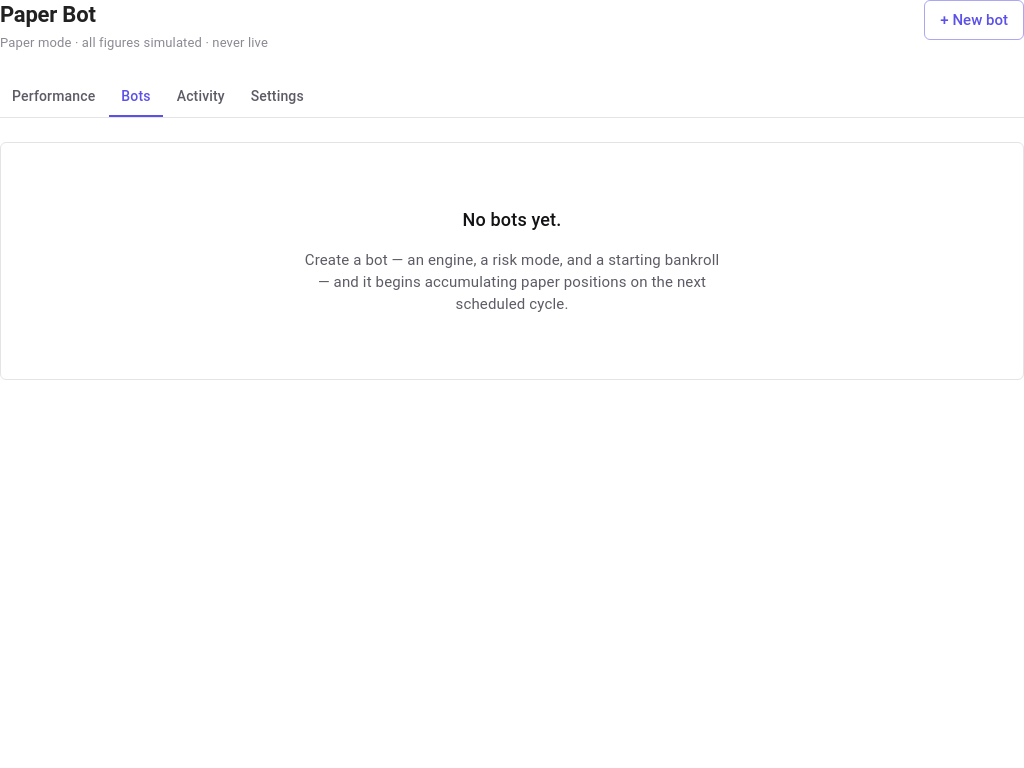
Test: Paper Bot create form › blocks submit and shows a name error when the name is empty
Click the button "+ New bot" at (974, 20), box 924,0 -> 1023,40
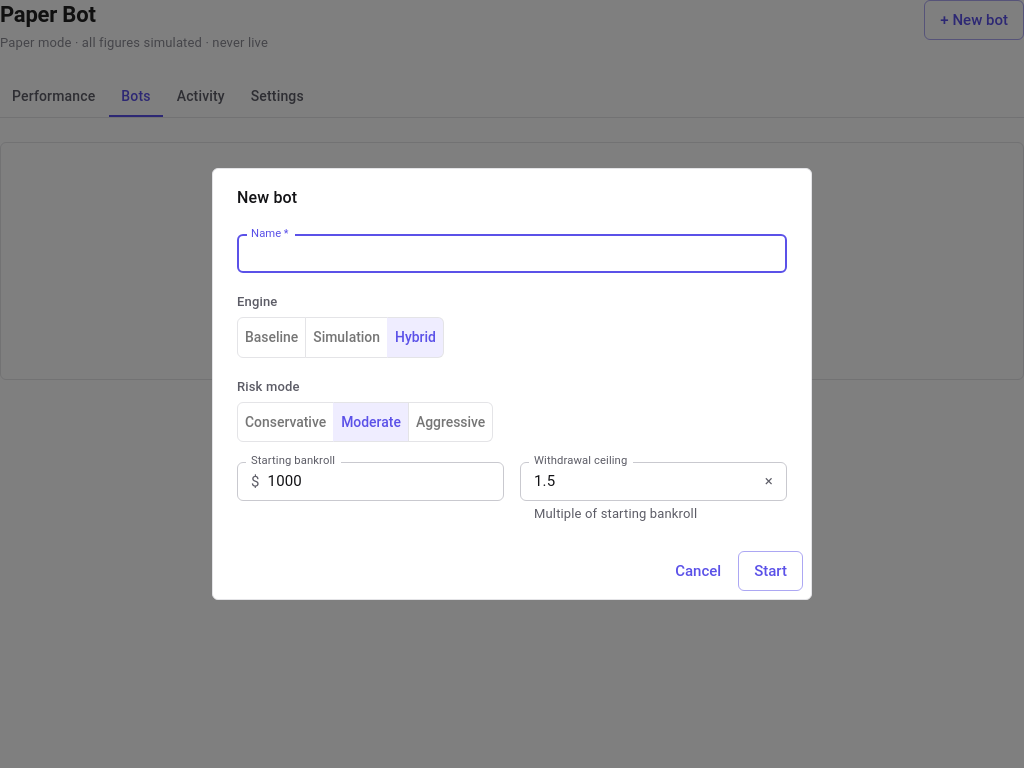
Click the button "Start" at (771, 571), box 738,551 -> 803,591
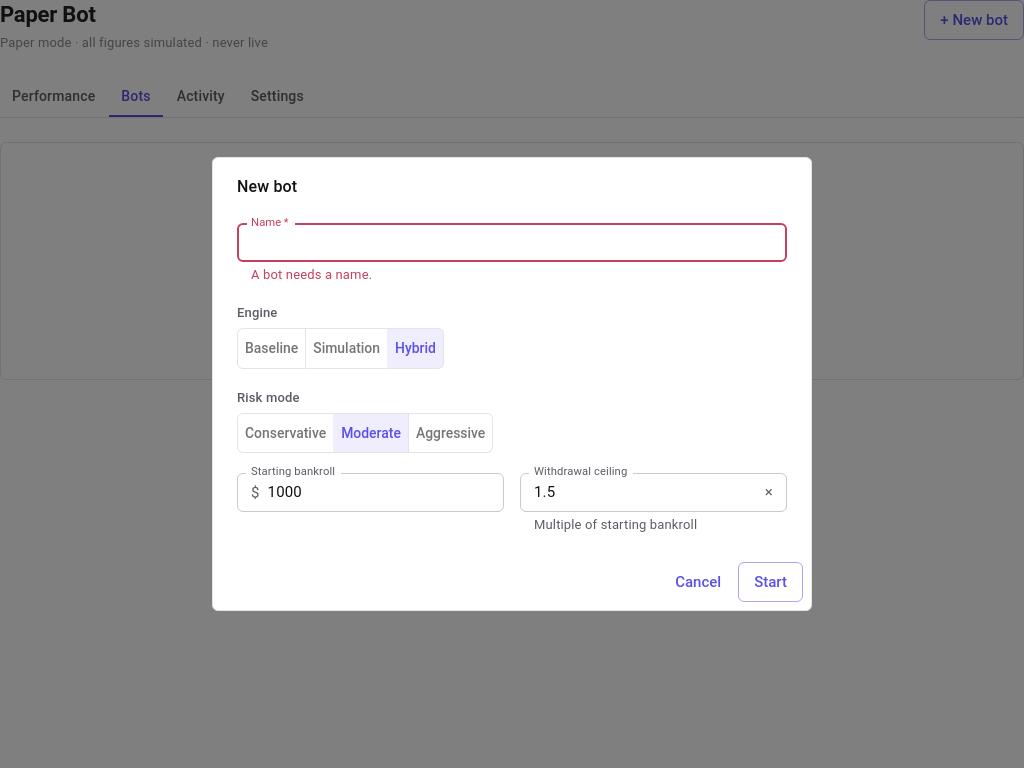
Expected: the text "A bot needs a name." is shown, 251,267 -> 372,282
